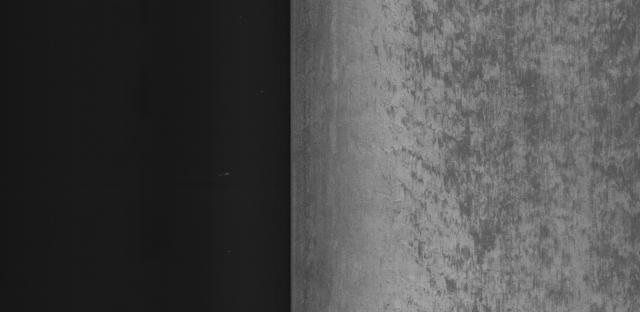silk_spot: (370, 17, 640, 306)
